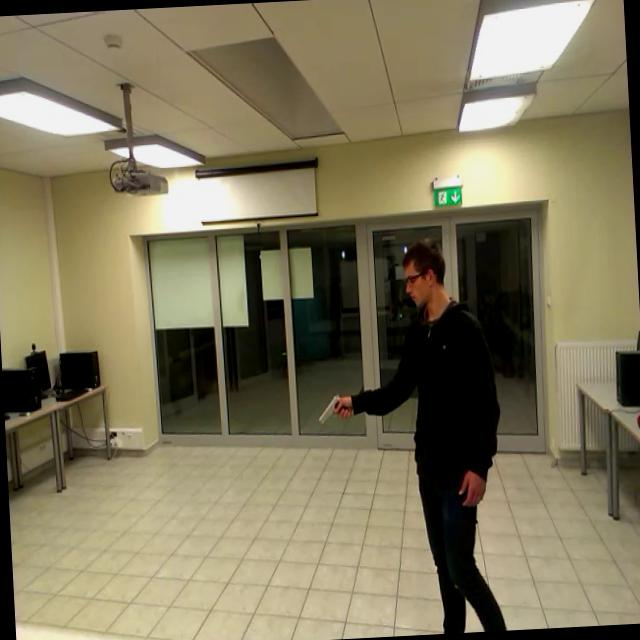handgun: (308, 392, 362, 439)
